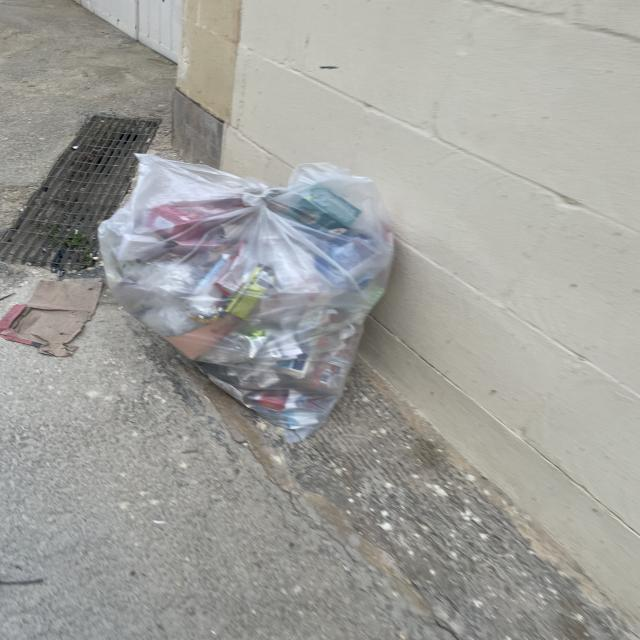grey_bag: (90, 149, 402, 438)
